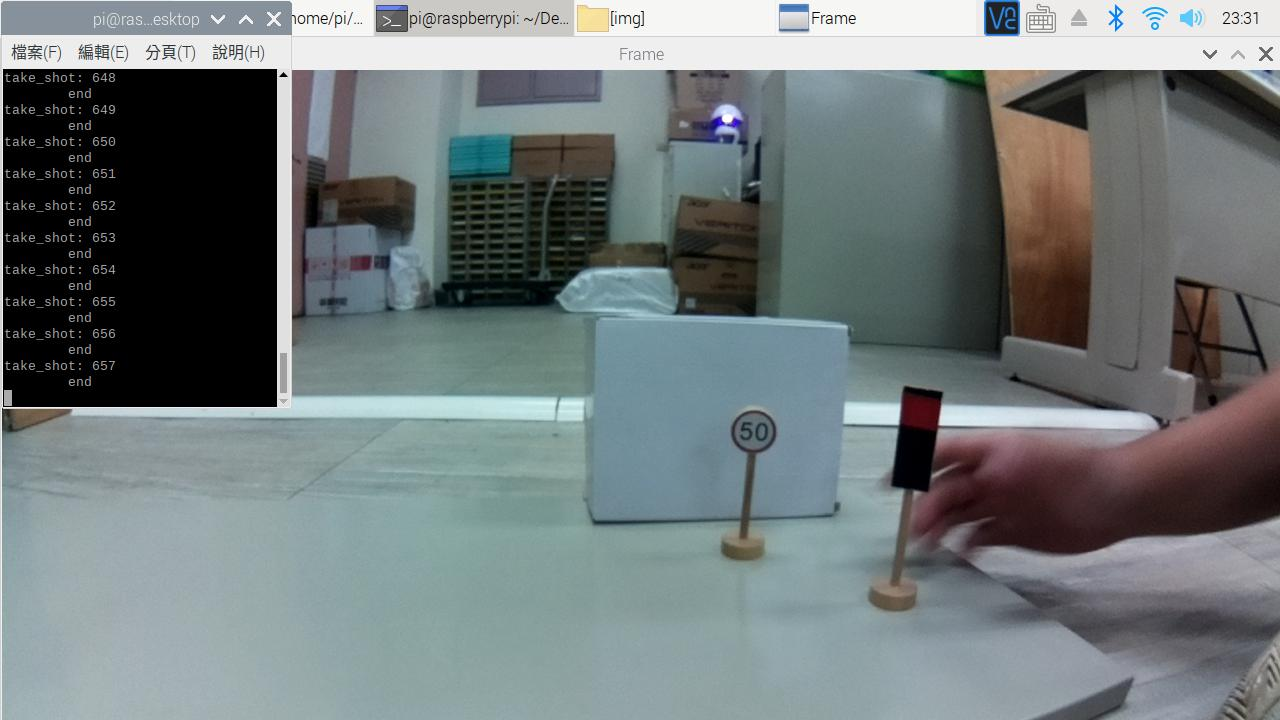Red: (879, 379, 950, 500)
Speed50: (716, 404, 801, 464)
